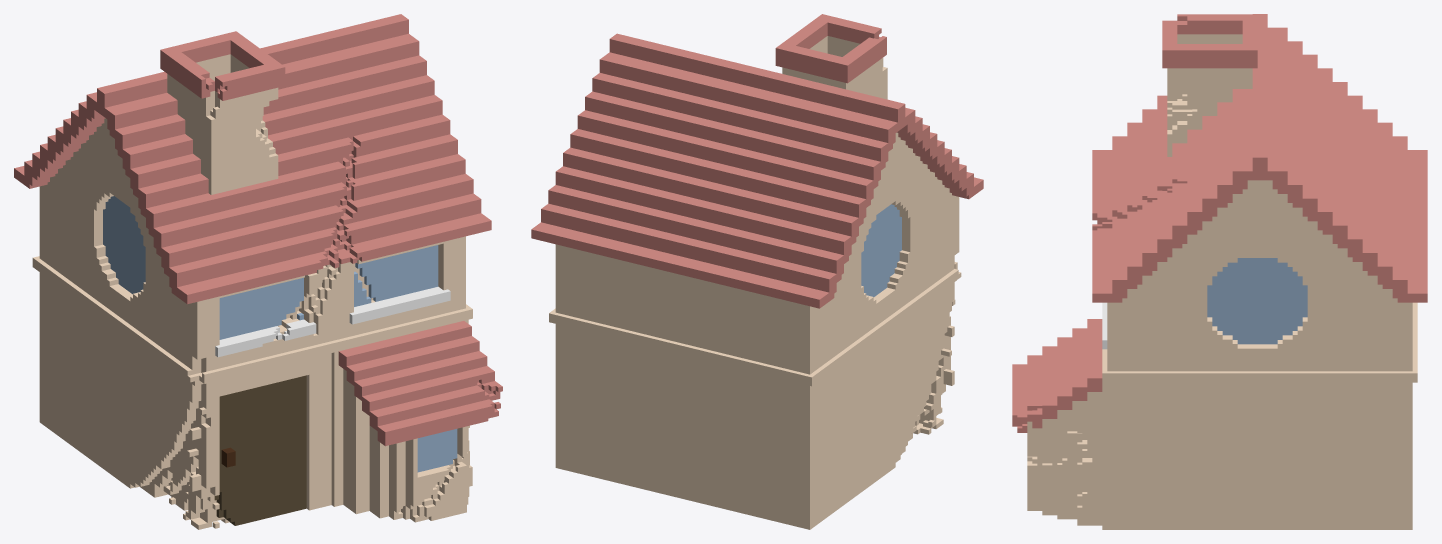
The model's file is Background_A_house_05.FBX.
The picture shows the model from 3 angles, left to right: view 1: azimuth 30°, elevation 25°; view 2: azimuth 150°, elevation 25°; view 3: azimuth 270°, elevation 25°; orthographic projection. The views are drawn at different scales.
Visible parts, largest first — view 1: Load_A-7; view 2: Load_A-7; view 3: Load_A-7.
Part boxes in pixels (left/top/right/bottom): Load_A-7: left=14, top=14, right=502, bottom=529; Load_A-7: left=531, top=14, right=983, bottom=529; Load_A-7: left=1012, top=14, right=1427, bottom=529.
Bounding box in the file's own units: 6.8 × 9 × 8.3.
1 material, 1 textured.
